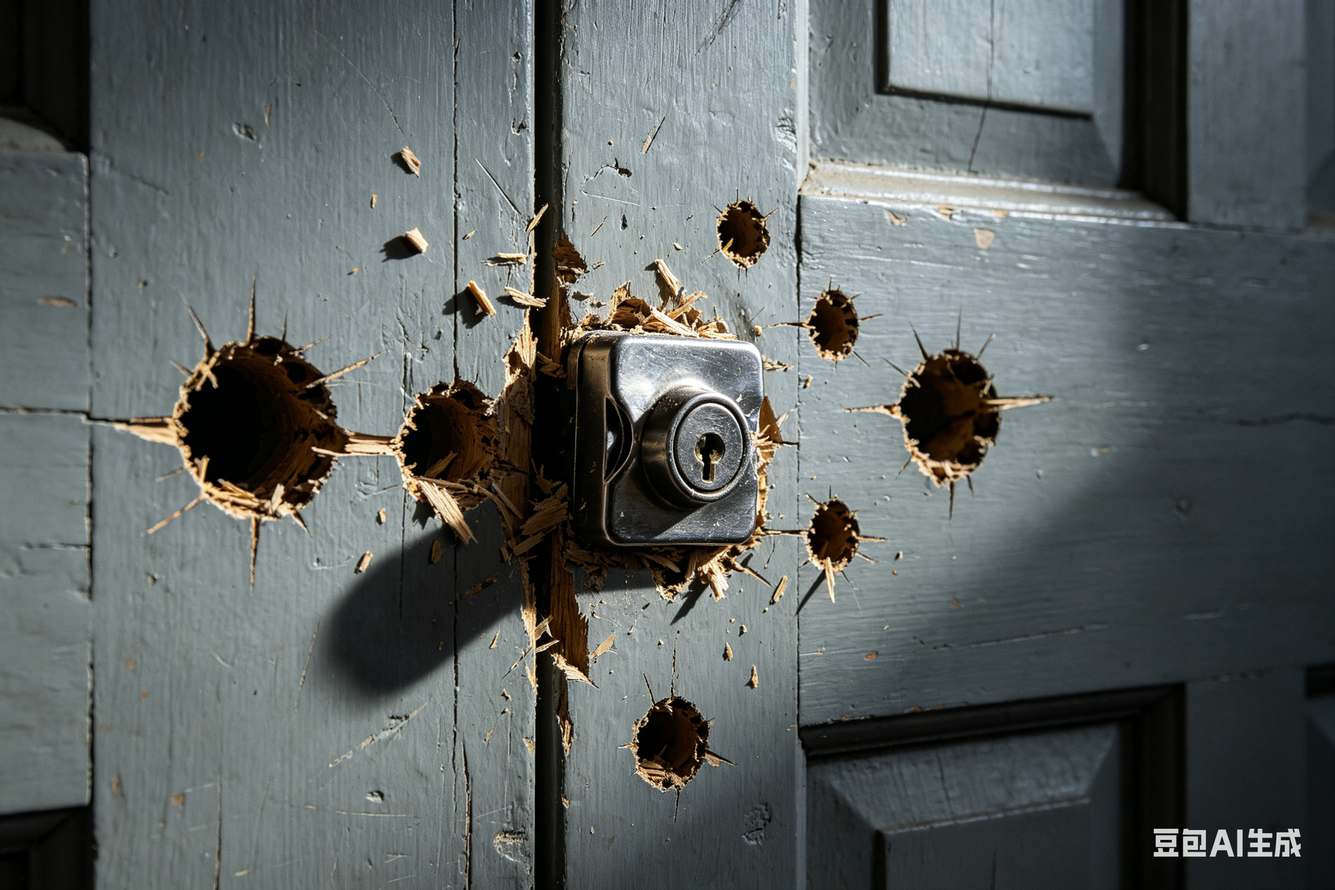BadLock: (539, 311, 765, 566)
